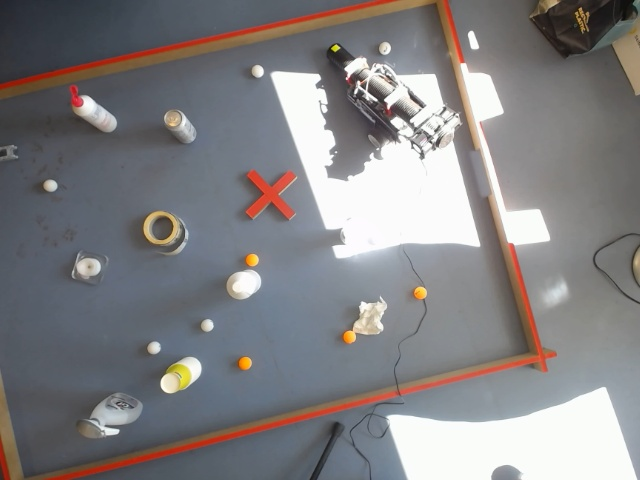orange: (237, 355, 253, 372), (412, 285, 428, 301), (244, 253, 260, 268), (342, 330, 356, 345)
white: (386, 0, 578, 49), (159, 359, 201, 394), (225, 269, 263, 302), (159, 364, 191, 395), (175, 356, 203, 385), (159, 369, 184, 395), (489, 464, 523, 480), (41, 178, 60, 195), (198, 317, 215, 334), (145, 340, 162, 356)
